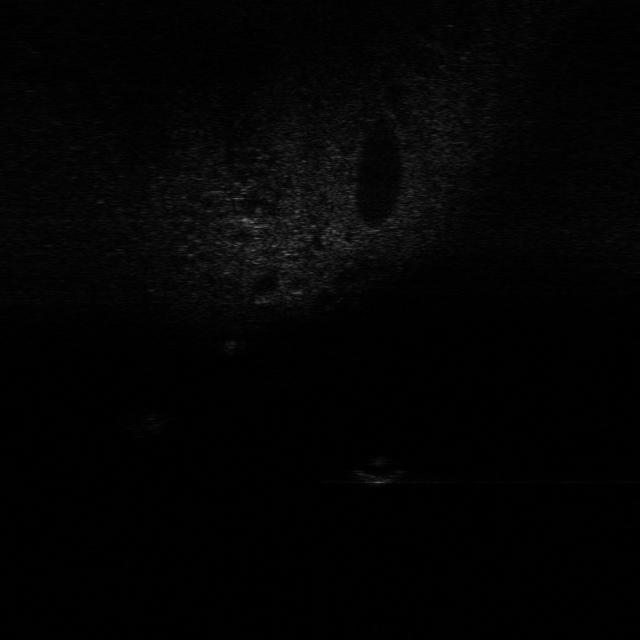ball: (356, 453, 410, 491)
circle cage: (107, 406, 172, 439)
cylinder: (217, 336, 244, 360)
